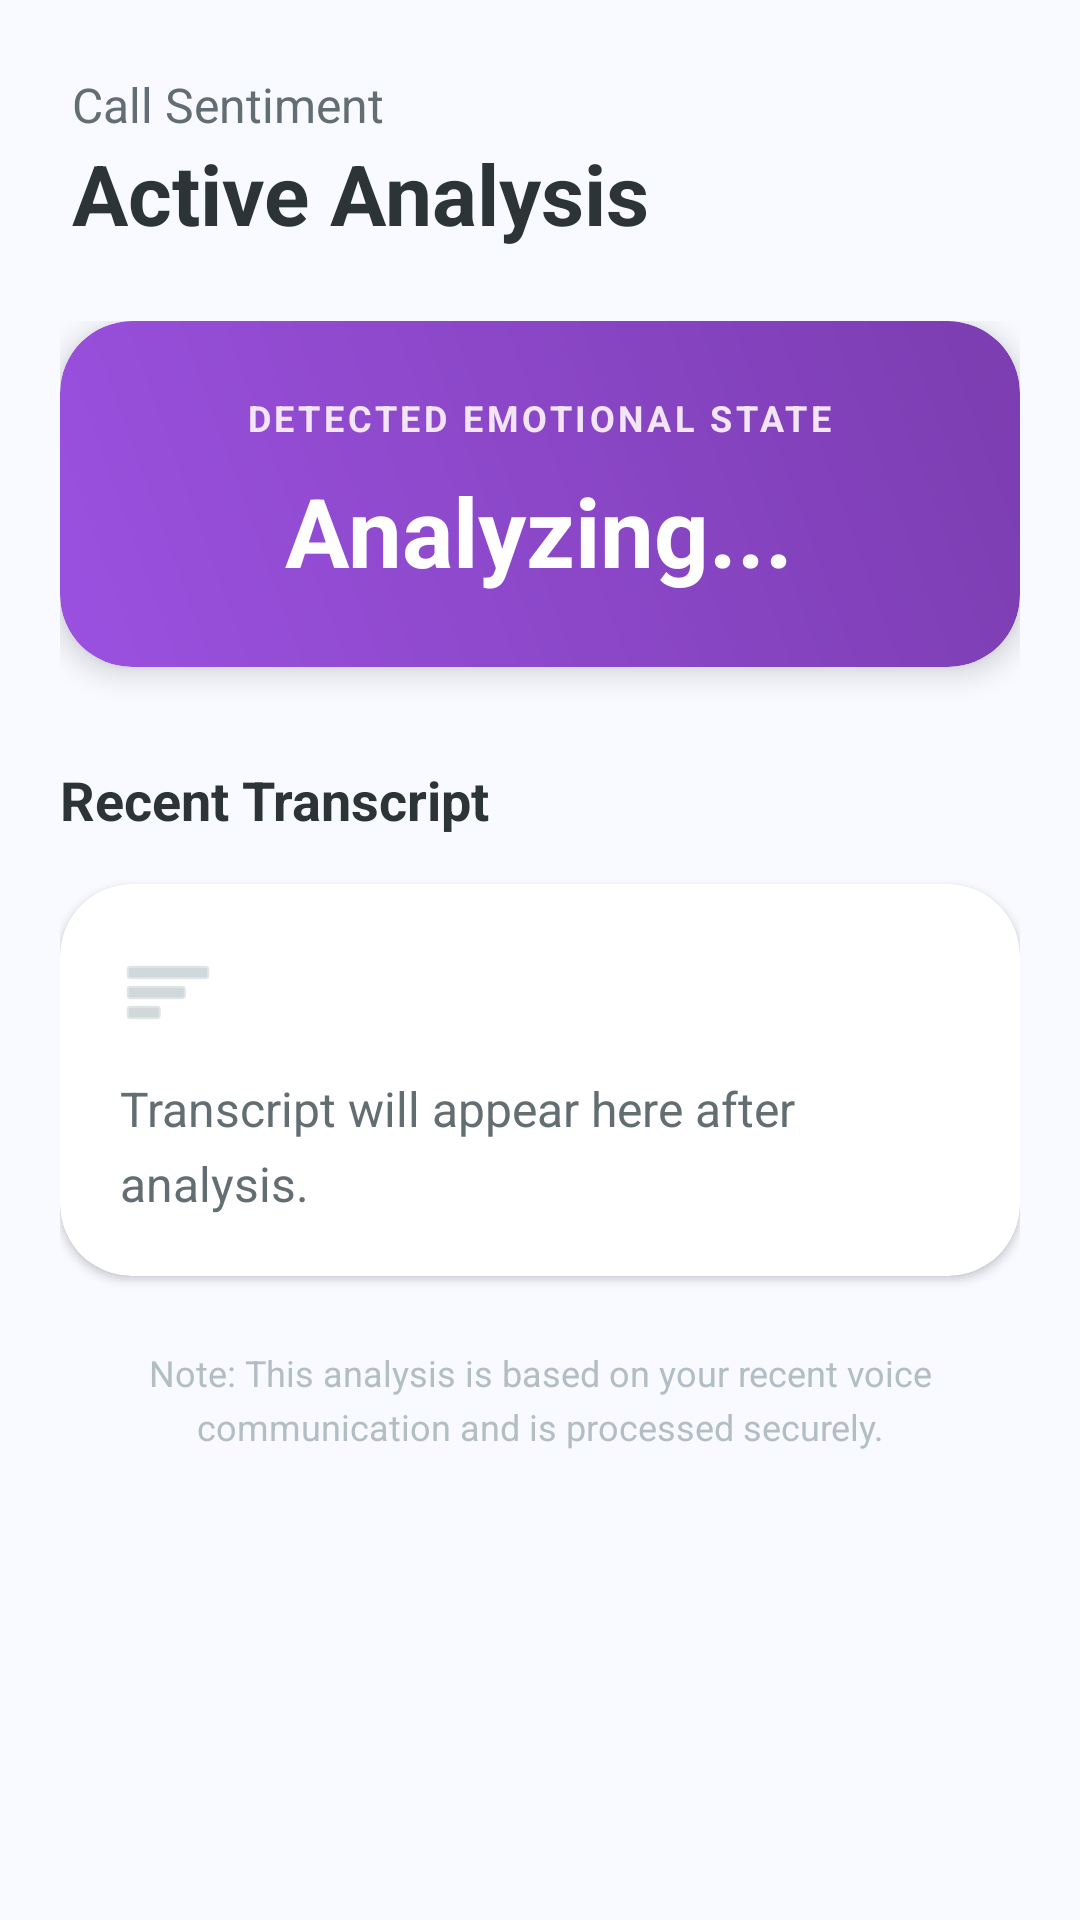

Icon click points for this 1080x1920 phone screenshot, format (x,y):
sort by size: (168,992)
